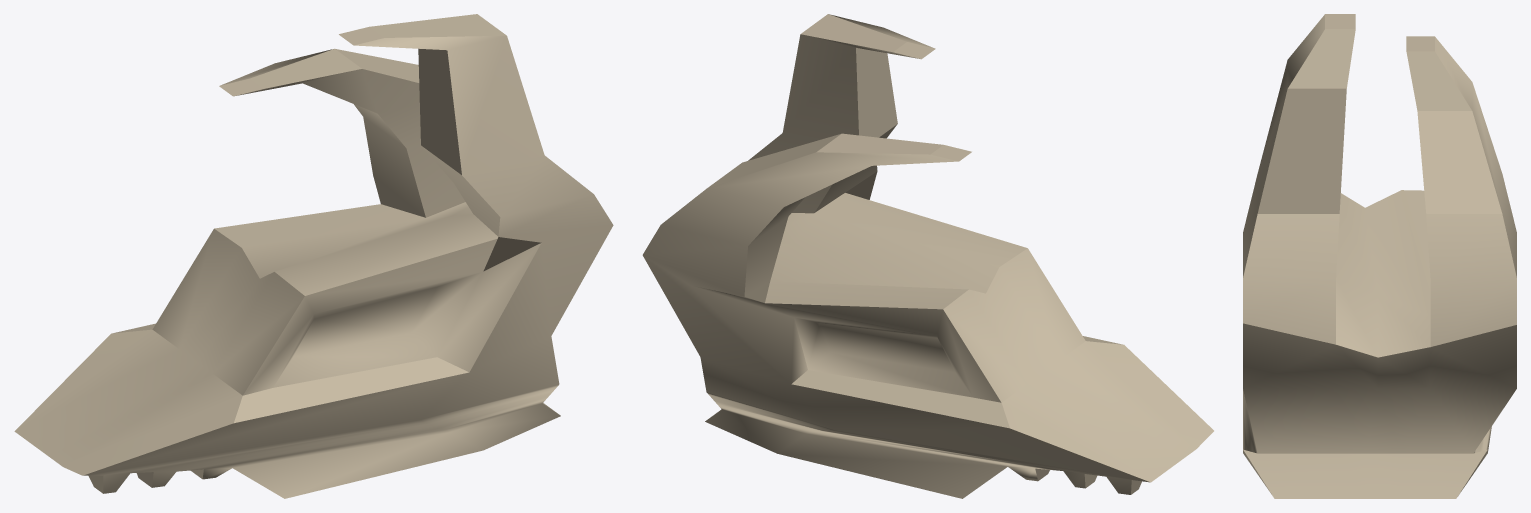
File: Gluttony_animalSkull.fbx
3 views of the same model, side by side, from view 1: azimuth 30°, elevation 25°; view 2: azimuth 150°, elevation 25°; view 3: azimuth 270°, elevation 25° (orthographic). The views are drawn at different scales.
Parts seen in each view (by area): view 1: Skull; view 2: Skull; view 3: Skull.
Boxes of the visible parts, x1=… form: Skull: x1=14, y1=14, x2=613, y2=498; Skull: x1=642, y1=14, x2=1213, y2=498; Skull: x1=1243, y1=14, x2=1516, y2=498.
Bounding box in the file's own units: 0.8618 × 0.6481 × 0.4063.
